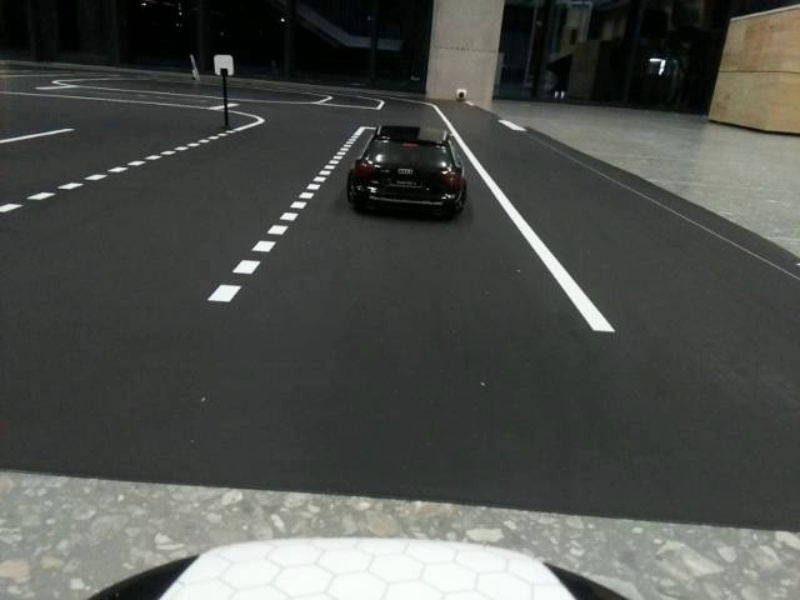car: (335, 109, 480, 225)
